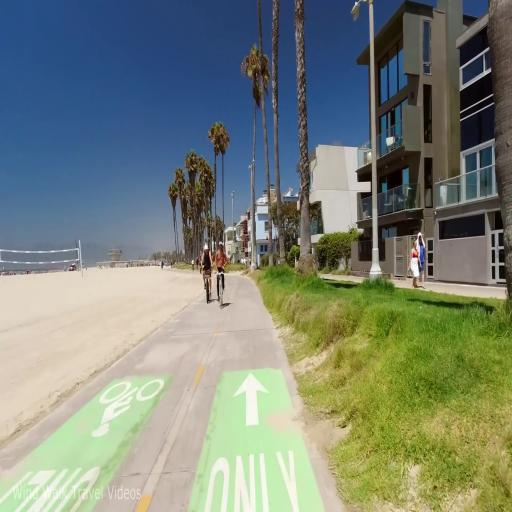Street_Light: (348, 0, 389, 279), (246, 154, 261, 280), (228, 182, 237, 262)
